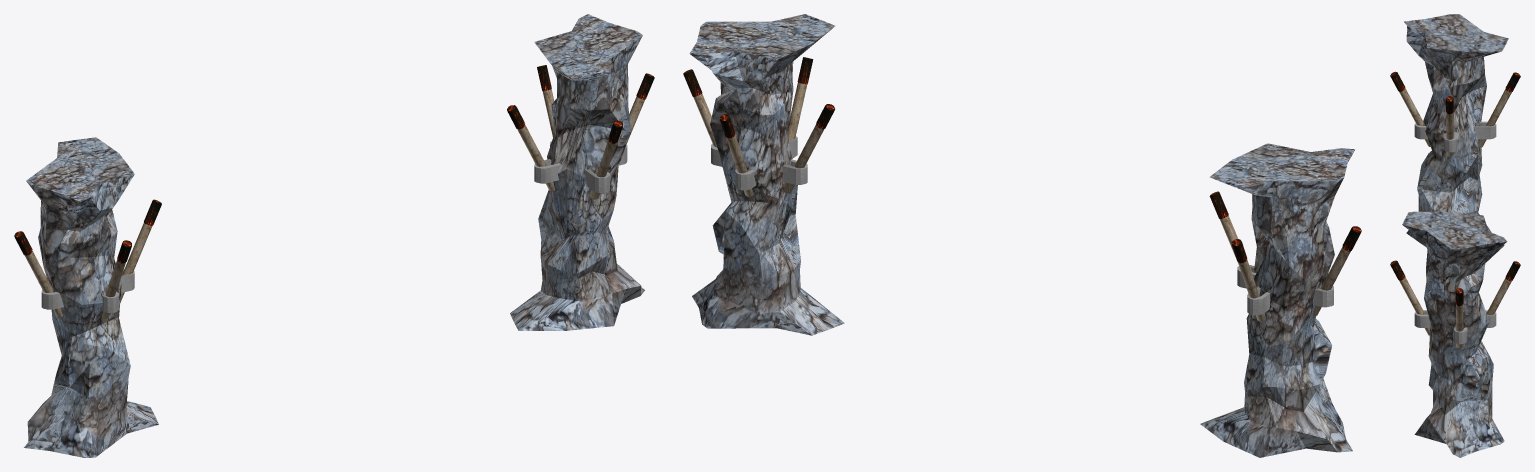
The model's file is torch_pillar_HEX_01.fbx.
The picture shows the model from 3 angles, left to right: view 1: azimuth 30°, elevation 25°; view 2: azimuth 150°, elevation 25°; view 3: azimuth 270°, elevation 25°; orthographic projection. The views are drawn at different scales.
Visible parts, largest first — view 1: torch_pillar_HEX_01; view 2: torch_pillar_HEX_01; view 3: torch_pillar_HEX_01.
Boxes of the visible parts, box(x1,y1,x2,y2) form: torch_pillar_HEX_01: box(14, 14, 654, 457); torch_pillar_HEX_01: box(683, 14, 1361, 457); torch_pillar_HEX_01: box(1390, 14, 1520, 457).
Bounding box in the file's own units: 2.58 × 1 × 0.5762.
Materials: 4 (4 with a texture image).
